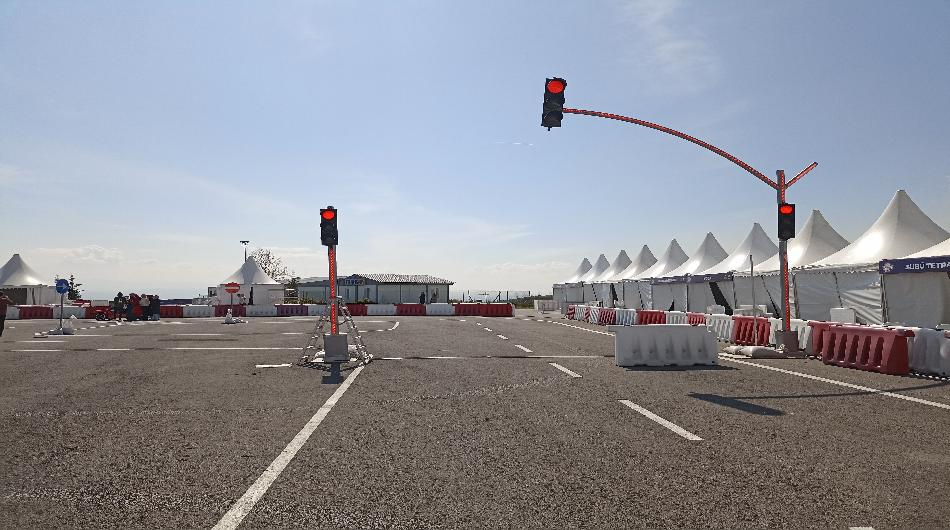red_light: (540, 76, 568, 131), (777, 202, 799, 244), (318, 206, 341, 245)
